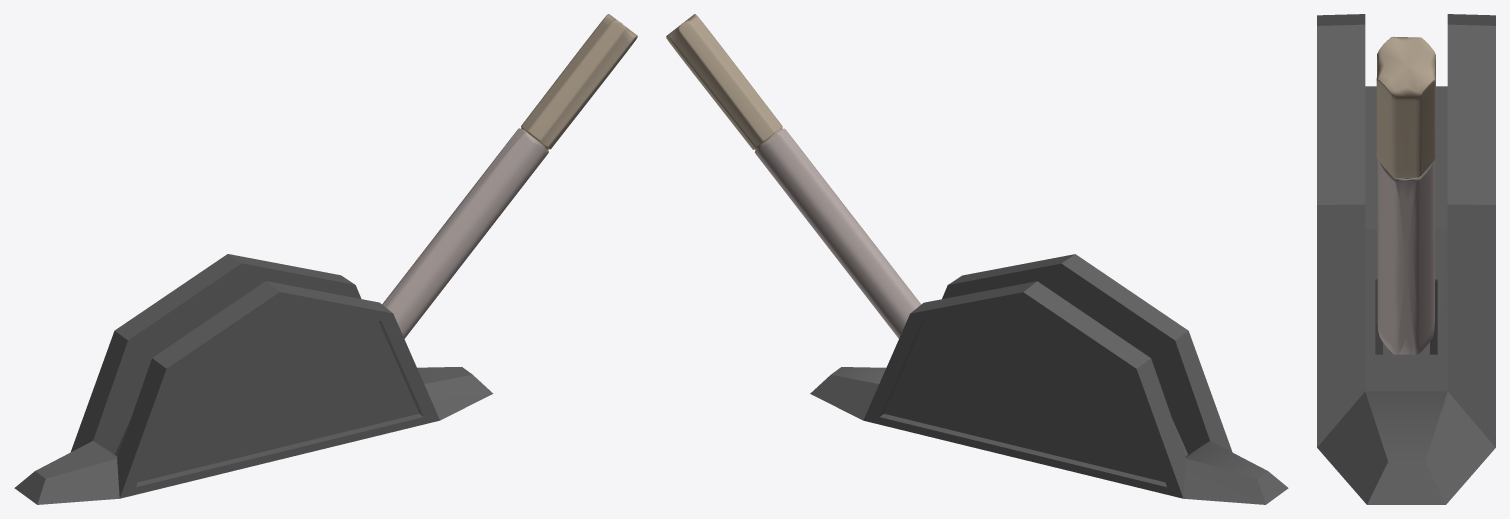
The model's file is Lever2_Blocky.fbx.
The picture shows the model from 3 angles, left to right: view 1: azimuth 30°, elevation 25°; view 2: azimuth 150°, elevation 25°; view 3: azimuth 270°, elevation 25°; orthographic projection. The views are drawn at different scales.
Visible parts, largest first — view 1: pCylinder2, pCube5; view 2: pCylinder2, pCube5; view 3: pCylinder2, pCube5.
Boxes of the visible parts, x1,y1,x2,y2 form: pCylinder2: [14, 254, 493, 504]; pCube5: [382, 14, 637, 338]; pCylinder2: [810, 254, 1288, 504]; pCube5: [666, 14, 920, 338]; pCylinder2: [1317, 14, 1495, 504]; pCube5: [1376, 36, 1435, 354].
Bounding box in the file's own units: 1.09 × 0.5765 × 0.162.
